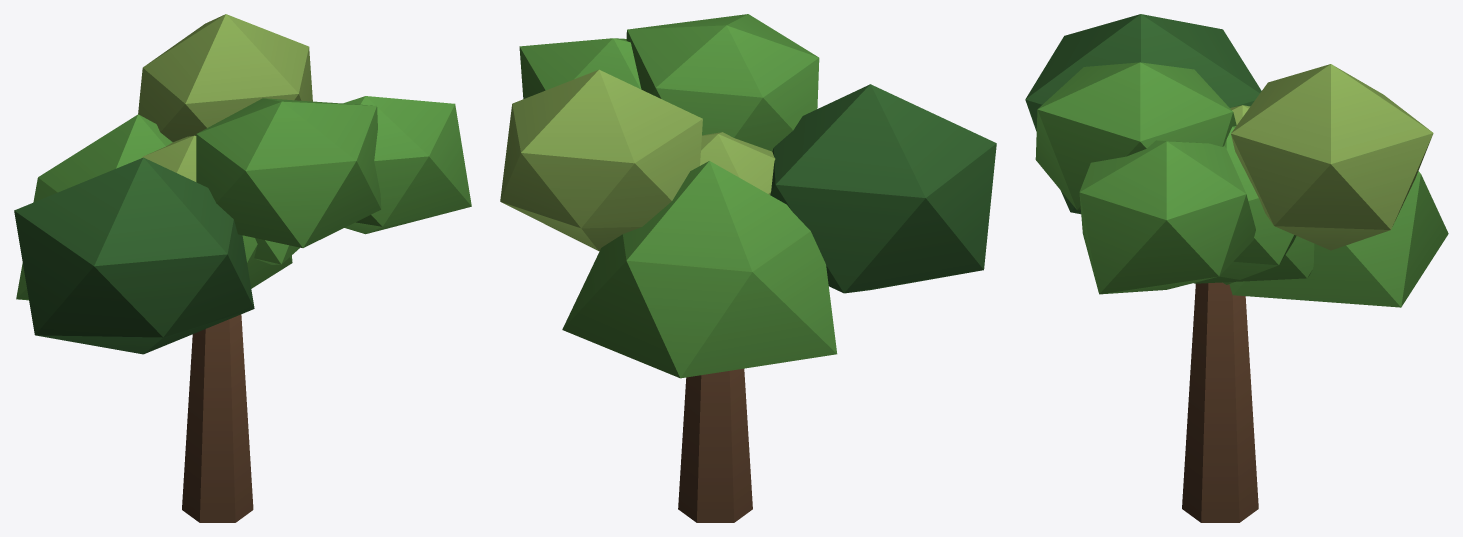
Rendered from tree_G.glb.
3 views of the same model, side by side, from view 1: azimuth 30°, elevation 25°; view 2: azimuth 150°, elevation 25°; view 3: azimuth 270°, elevation 25° (orthographic). The views are drawn at different scales.
Visible parts, largest first — view 1: tree_G; view 2: tree_G; view 3: tree_G.
Part boxes in pixels (x1,y1,x2,y2): tree_G: (14,14,471,522); tree_G: (500,14,996,522); tree_G: (1025,14,1448,522).
Bounding box in the file's own units: 1.95 × 1.91 × 1.54.
Materials: 1 (1 with a texture image).
